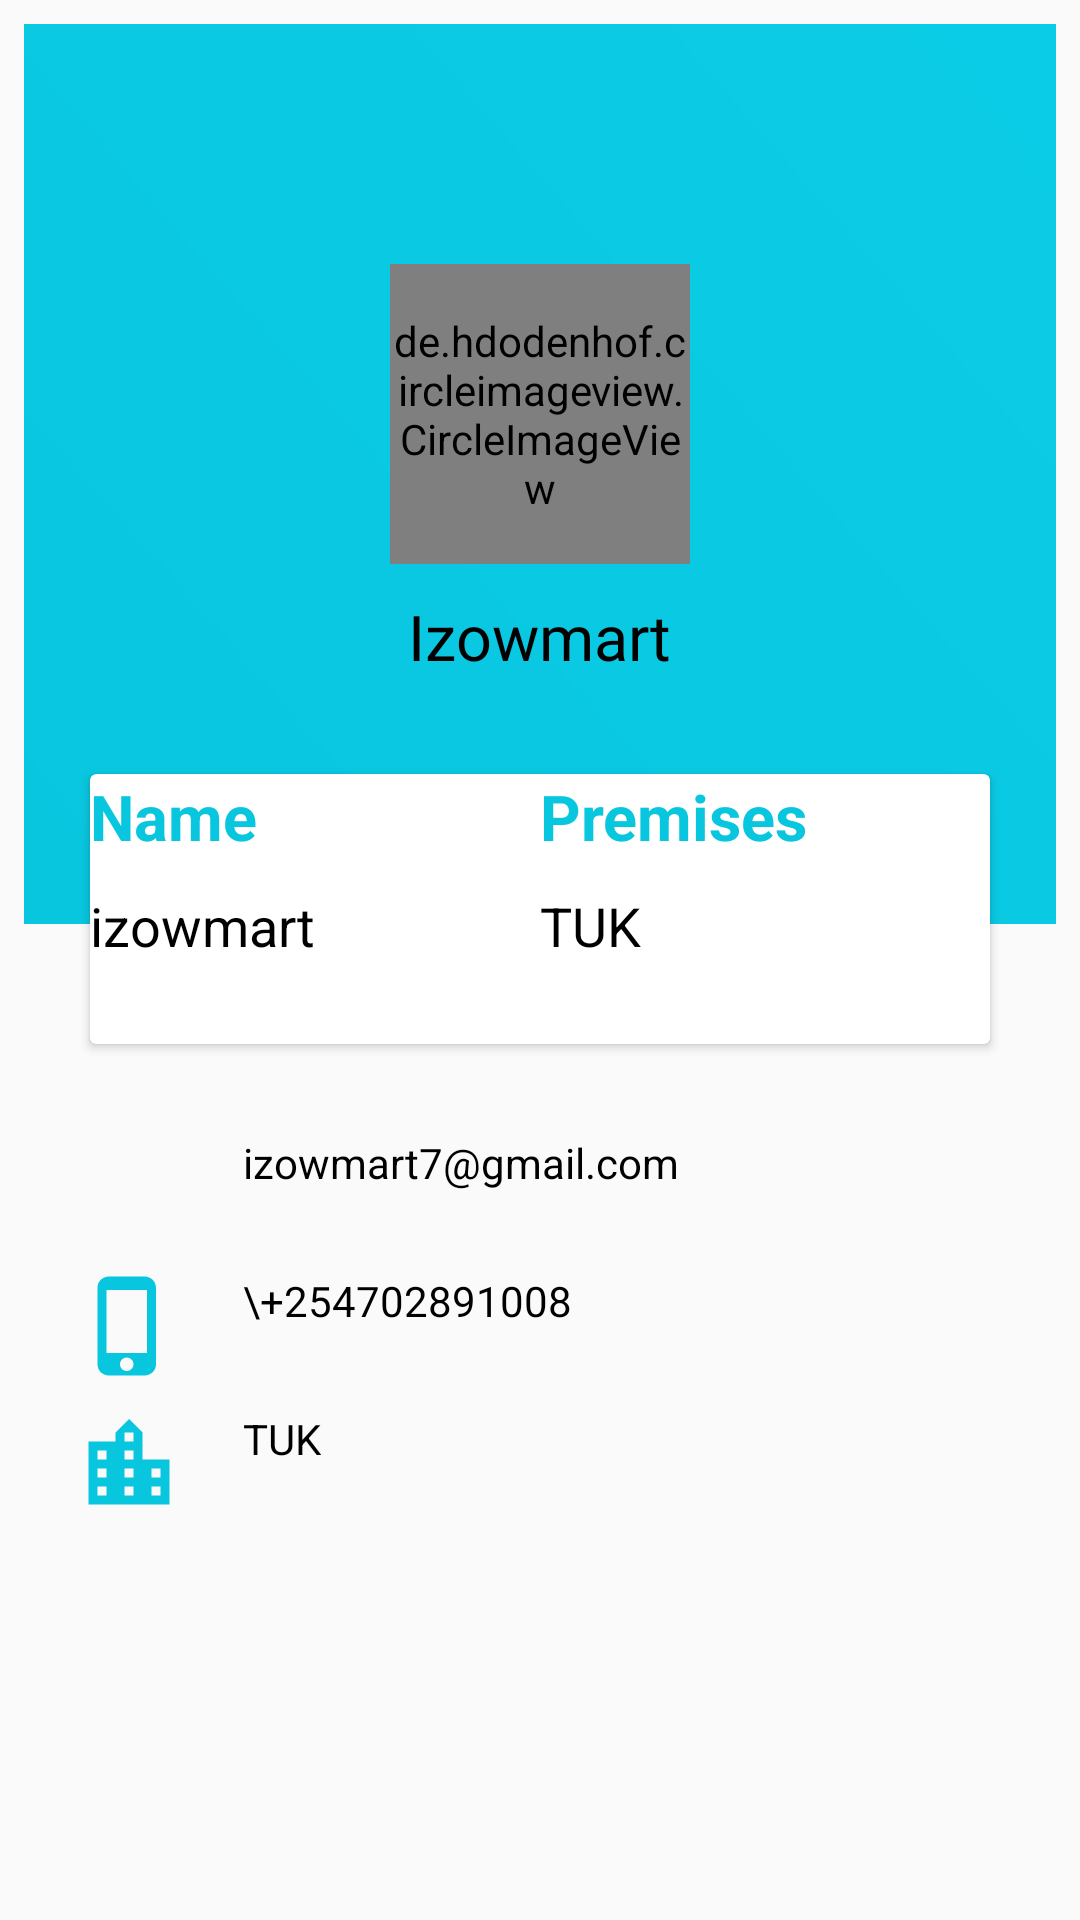

Icons on this 1080×1920 Android screen, each with the point to tap as [x,y]:
phone: [126,1326]
premises: [129,1462]
